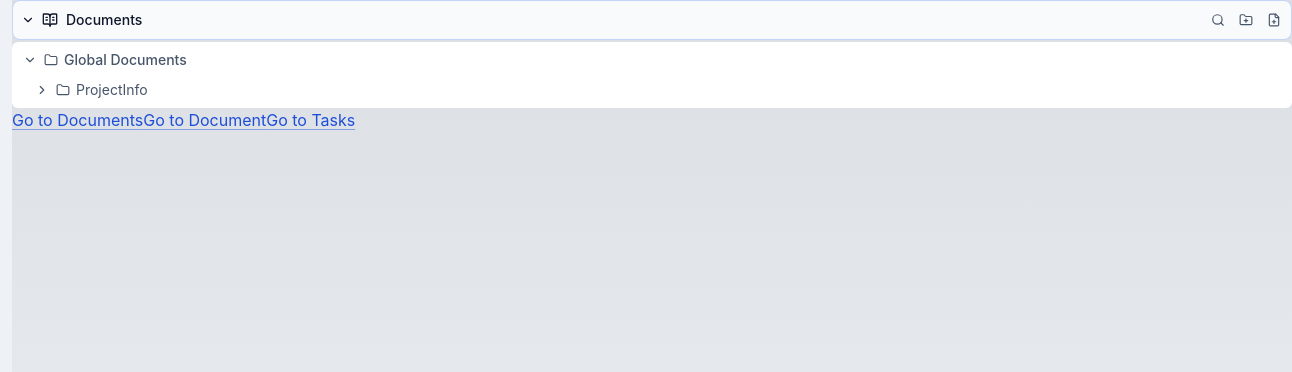
Test: DocumentsSidebarSection › does not override a manual toggle while staying on the Documents page
Expected: the text "ProjectInfo" is shown, [76,81,148,98]
Click the button named "Collapse Documents" at (28, 20), box [18,10,38,30]
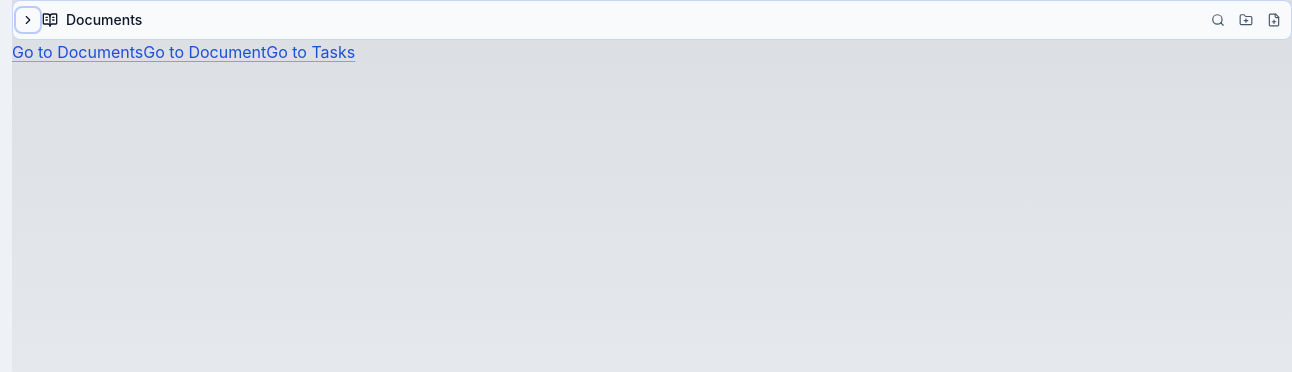
Now the button "ProjectInfo" is gone
Now the button named "Expand Documents" is shown, box [18,10,38,30]
